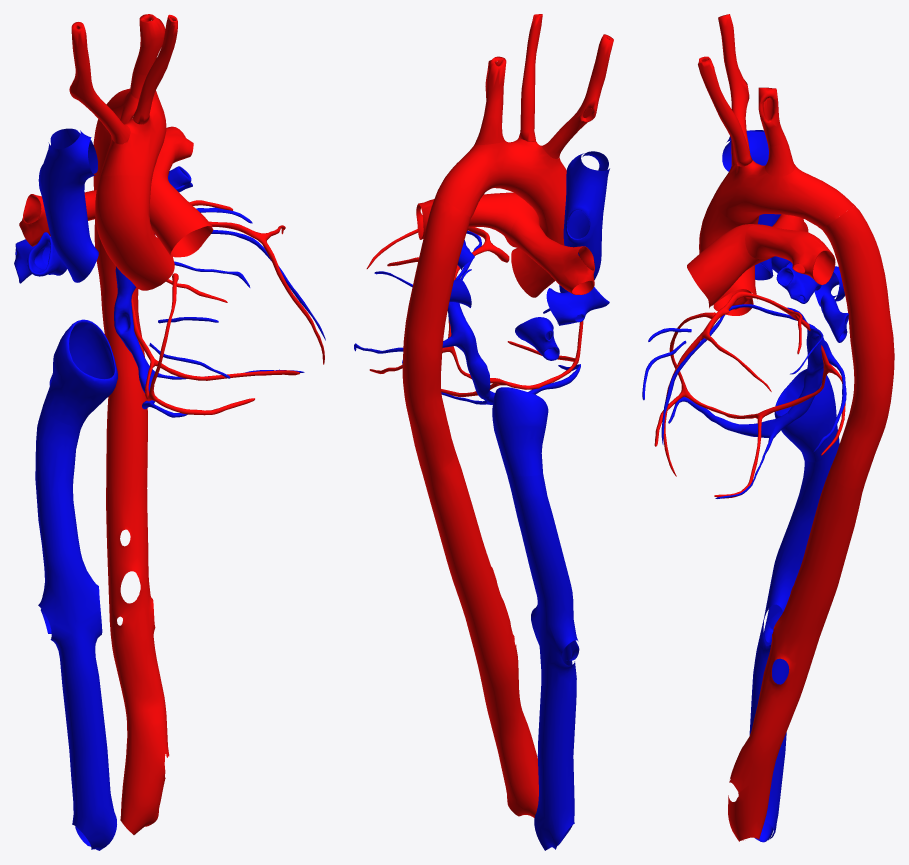
File: heart_vessels.glb
3 views of the same model, side by side, from view 1: azimuth 30°, elevation 25°; view 2: azimuth 150°, elevation 25°; view 3: azimuth 270°, elevation 25° (orthographic). The views are drawn at different scales.
Visible parts, largest first — view 1: VH_F_left_anterior_descending_artery, VH_F_inferior_vena_cava_a, VH_F_descending_aorta_a, VH_F_pulmonary_vein_L_sup; view 2: VH_F_descending_aorta_a, VH_F_left_anterior_descending_artery, VH_F_inferior_vena_cava_a, VH_F_pulmonary_vein_L_sup; view 3: VH_F_descending_aorta_a, VH_F_left_anterior_descending_artery, VH_F_inferior_vena_cava_a, VH_F_pulmonary_vein_L_sup.
Part boxes in pixels (x1,y1,x2,y2): VH_F_left_anterior_descending_artery: (19, 14, 324, 415); VH_F_inferior_vena_cava_a: (35, 319, 117, 850); VH_F_descending_aorta_a: (93, 119, 169, 834); VH_F_pulmonary_vein_L_sup: (14, 128, 325, 417); VH_F_descending_aorta_a: (402, 195, 538, 817); VH_F_left_anterior_descending_artery: (366, 14, 613, 396); VH_F_inferior_vena_cava_a: (492, 387, 579, 850); VH_F_pulmonary_vein_L_sup: (354, 151, 609, 404); VH_F_descending_aorta_a: (728, 205, 894, 841); VH_F_left_anterior_descending_artery: (654, 14, 853, 498); VH_F_inferior_vena_cava_a: (749, 369, 839, 842); VH_F_pulmonary_vein_L_sup: (642, 130, 848, 498).
Size of the model in its own units: 0.1408 by 0.4519 by 0.1265.
